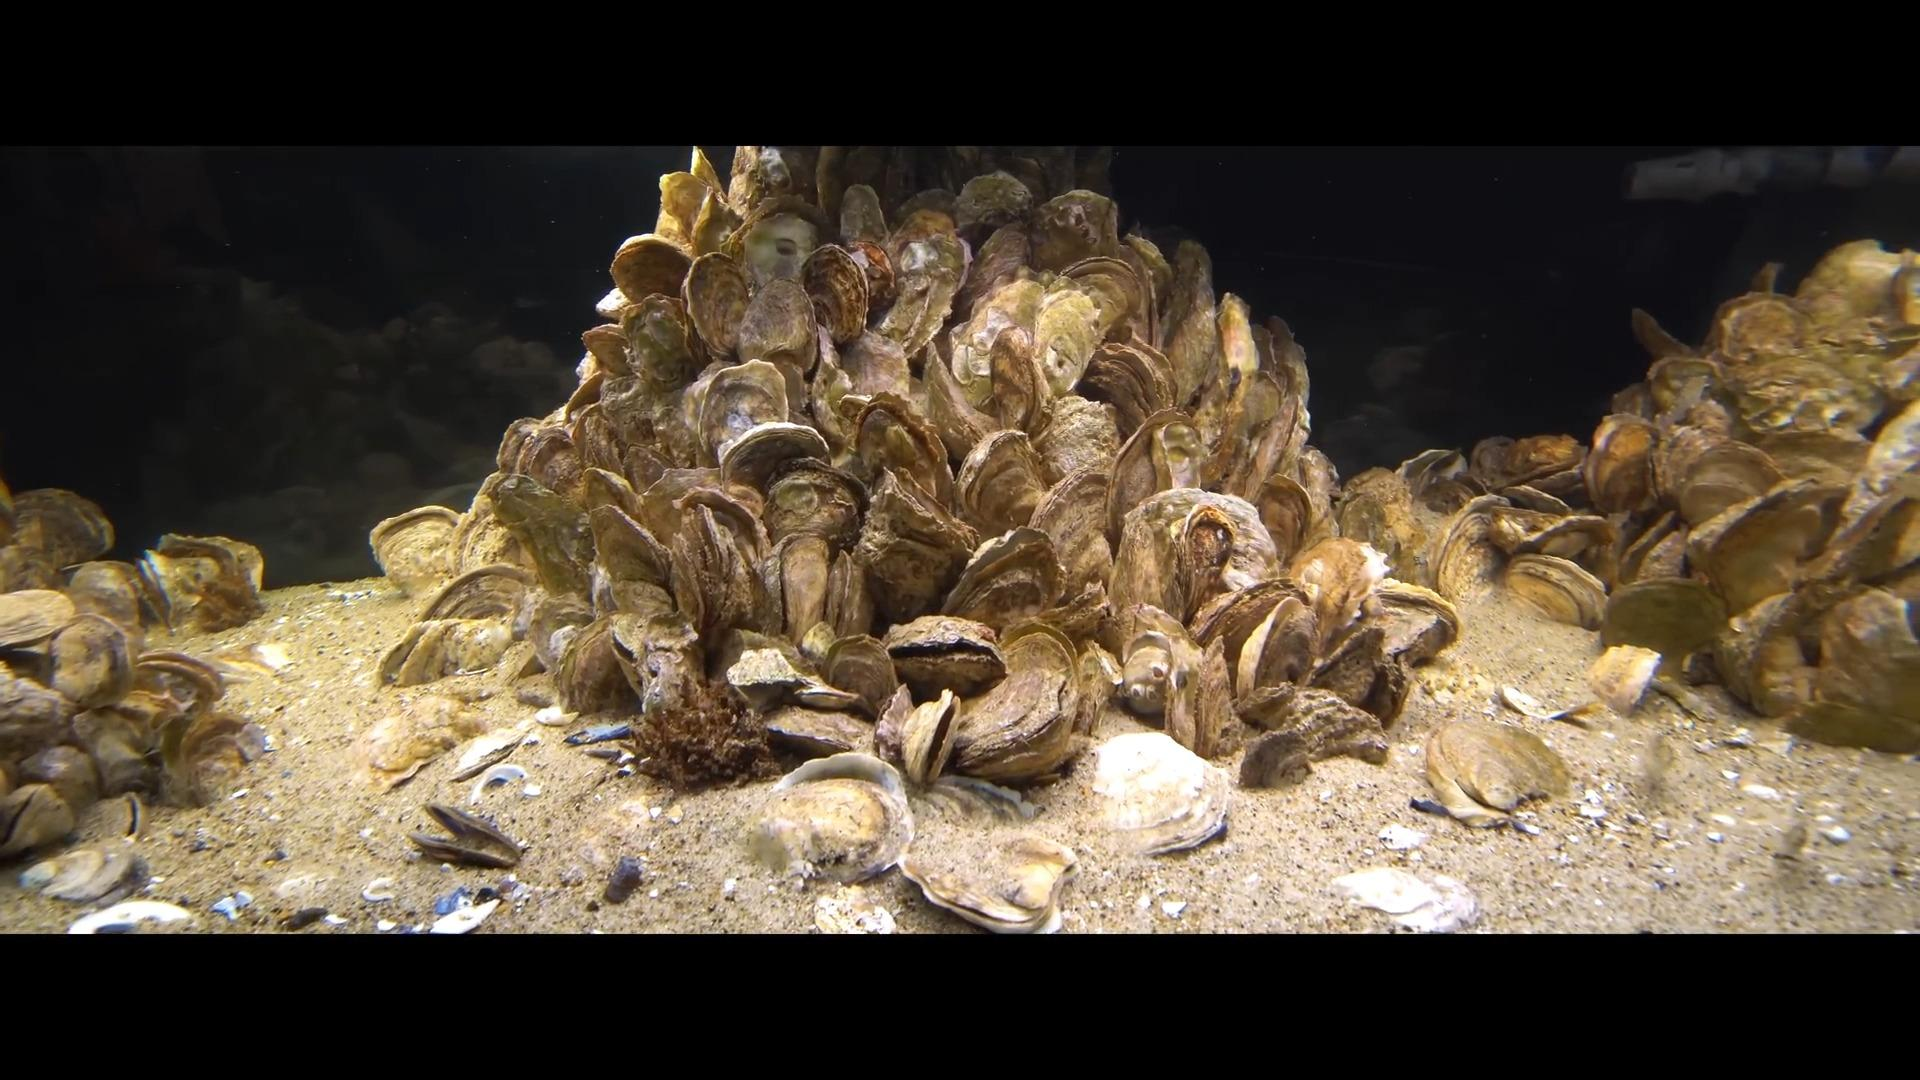Oyster: (1743, 582, 1916, 750), (1110, 481, 1270, 633), (748, 752, 915, 890), (943, 630, 1084, 786), (1691, 479, 1846, 613), (898, 825, 1073, 935), (856, 467, 980, 618), (1418, 715, 1571, 829), (665, 488, 770, 649), (480, 469, 605, 599), (1096, 401, 1197, 547), (1236, 691, 1387, 786), (847, 392, 960, 517), (939, 520, 1060, 632), (141, 531, 266, 638), (1022, 462, 1118, 597), (1727, 349, 1875, 438), (1195, 578, 1311, 687), (877, 223, 968, 360), (1113, 600, 1213, 724), (914, 344, 1006, 472), (1284, 535, 1385, 651), (690, 357, 798, 463), (164, 712, 276, 811), (1335, 463, 1432, 575), (1344, 584, 1460, 678), (579, 484, 673, 600), (1159, 245, 1222, 415), (375, 617, 520, 691), (952, 423, 1047, 534), (758, 455, 866, 551), (885, 615, 1006, 700), (1428, 498, 1527, 601), (1083, 336, 1176, 442), (1051, 251, 1151, 345), (17, 837, 148, 910), (1652, 422, 1749, 520), (70, 703, 162, 803), (5, 488, 115, 572), (551, 613, 640, 717), (1828, 487, 1920, 585), (1705, 603, 1785, 715), (1498, 553, 1611, 630), (40, 613, 131, 709), (365, 504, 464, 592), (1582, 410, 1663, 517), (1025, 187, 1125, 273), (735, 273, 819, 375), (1163, 629, 1229, 758), (1305, 618, 1400, 707), (616, 290, 696, 393), (719, 418, 829, 492), (682, 251, 754, 360), (65, 559, 156, 646), (799, 243, 873, 348), (835, 327, 918, 421), (773, 531, 837, 649), (816, 630, 898, 720), (985, 326, 1048, 439), (758, 702, 876, 762), (1712, 294, 1808, 368), (897, 684, 964, 790), (0, 674, 78, 765), (1253, 471, 1320, 572), (129, 647, 227, 717), (0, 779, 79, 862), (609, 233, 696, 307), (1502, 508, 1614, 563), (607, 607, 687, 683), (1585, 645, 1664, 719), (0, 589, 83, 657), (724, 646, 810, 709), (952, 170, 1035, 229), (1502, 433, 1588, 485), (1399, 446, 1468, 508), (1630, 306, 1698, 367), (844, 237, 898, 314)
